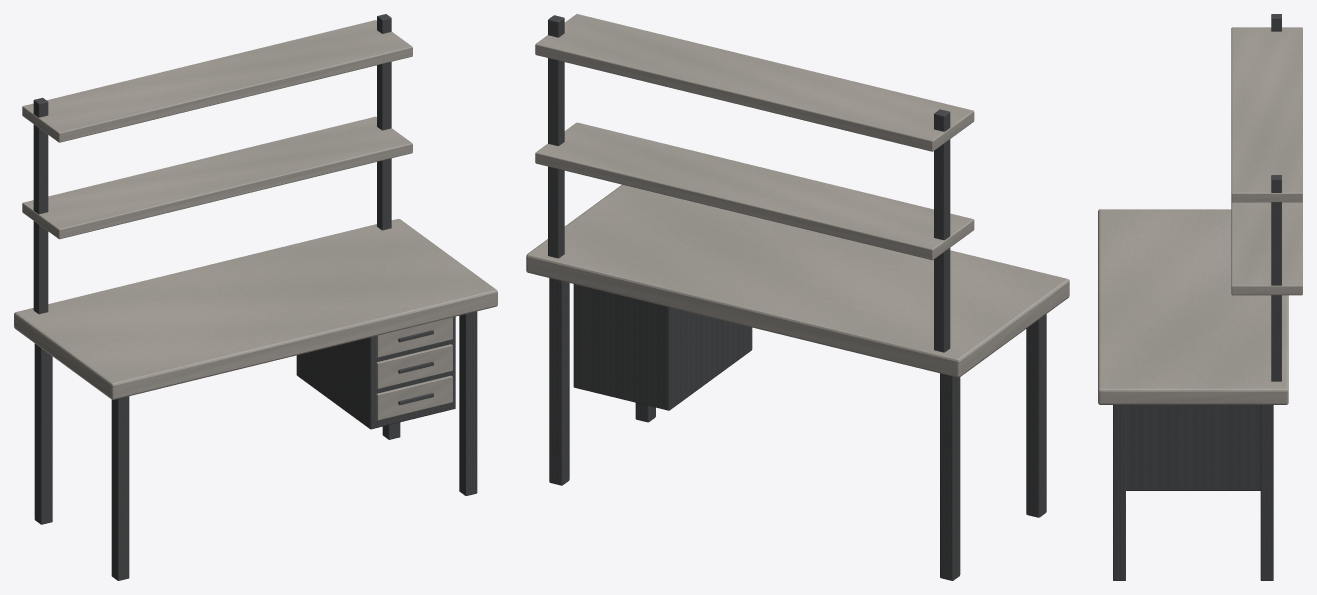
The model's file is lab_table.glb.
3 views of the same model, side by side, from view 1: azimuth 30°, elevation 25°; view 2: azimuth 150°, elevation 25°; view 3: azimuth 270°, elevation 25° (orthographic). The views are drawn at different scales.
Parts seen in each view (by area): view 1: lab_top, upper_shelf.001, lower_shelf.001, drawer_cabinet, leg.022, leg.020, leg.021, shelf_post, shelf_post.001, drawer.006, drawer.007, drawer.008; view 2: lab_top, upper_shelf.001, lower_shelf.001, drawer_cabinet, leg.023, leg.021, leg.020, shelf_post, shelf_post.001; view 3: lab_top, upper_shelf.001, drawer_cabinet, lower_shelf.001, leg.023, leg.022, shelf_post.001.
Part boxes in pixels (left/top/right/bottom): lab_top: left=14, top=219, right=497, bottom=399; upper_shelf.001: left=22, top=20, right=412, bottom=142; lower_shelf.001: left=22, top=116, right=412, bottom=239; drawer_cabinet: left=296, top=316, right=455, bottom=429; leg.022: left=459, top=311, right=477, bottom=495; leg.020: left=111, top=396, right=129, bottom=580; leg.021: left=34, top=343, right=52, bottom=524; shelf_post: left=33, top=97, right=48, bottom=314; shelf_post.001: left=377, top=14, right=391, bottom=230; drawer.006: left=376, top=375, right=452, bottom=420; drawer.007: left=376, top=344, right=452, bottom=388; drawer.008: left=376, top=317, right=452, bottom=357; lab_top: left=526, top=184, right=1069, bottom=377; upper_shelf.001: left=535, top=14, right=974, bottom=151; lower_shelf.001: left=535, top=122, right=974, bottom=260; drawer_cabinet: left=573, top=284, right=752, bottom=410; leg.023: left=549, top=278, right=569, bottom=485; leg.021: left=940, top=373, right=960, bottom=580; leg.020: left=1026, top=314, right=1046, bottom=517; shelf_post: left=934, top=109, right=950, bottom=352; shelf_post.001: left=548, top=15, right=564, bottom=258; lab_top: left=1098, top=209, right=1288, bottom=404; upper_shelf.001: left=1231, top=27, right=1302, bottom=202; drawer_cabinet: left=1126, top=405, right=1260, bottom=490; lower_shelf.001: left=1231, top=202, right=1302, bottom=295; leg.023: left=1260, top=405, right=1273, bottom=580; leg.022: left=1113, top=405, right=1125, bottom=580; shelf_post.001: left=1271, top=175, right=1281, bottom=381.
Bounding box in the file's own units: 1.8 × 1.85 × 0.86.
2 materials, 2 textured.
